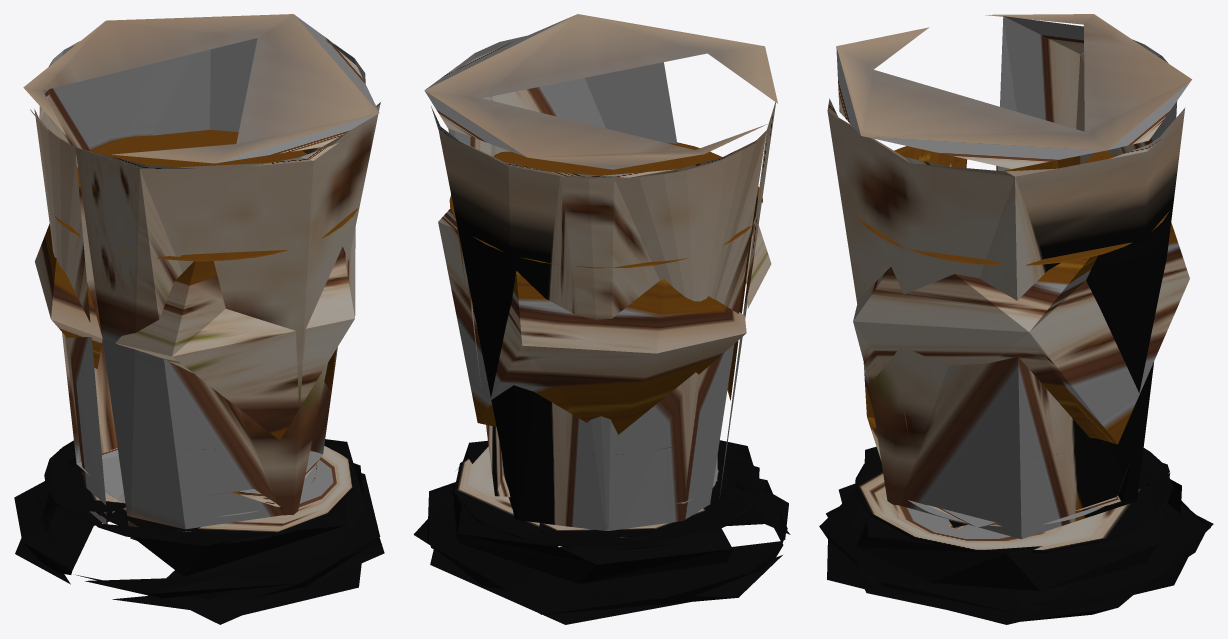
File: food_beverage_coffeeCup_a02.glb
The picture shows the model from 3 angles, left to right: view 1: azimuth 30°, elevation 25°; view 2: azimuth 150°, elevation 25°; view 3: azimuth 270°, elevation 25°; orthographic projection. The views are drawn at different scales.
Parts seen in each view (by area): view 1: geometry_0; view 2: geometry_0; view 3: geometry_0.
Part boxes in pixels (x1,y1,x2,y2): geometry_0: (14, 14, 384, 624); geometry_0: (413, 14, 790, 624); geometry_0: (819, 14, 1213, 624).
Bounding box in the file's own units: 0.3186 × 0.42 × 0.3209.
1 material, 1 textured.
